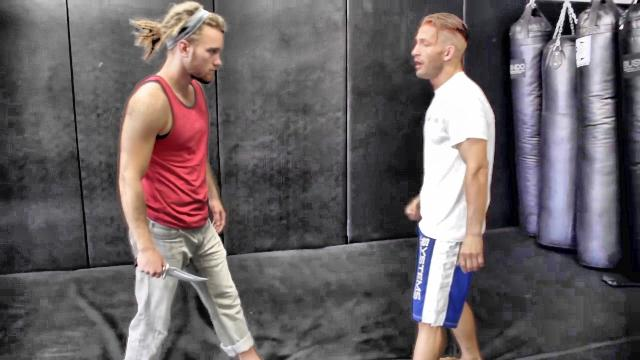knife: (124, 251, 213, 285)
